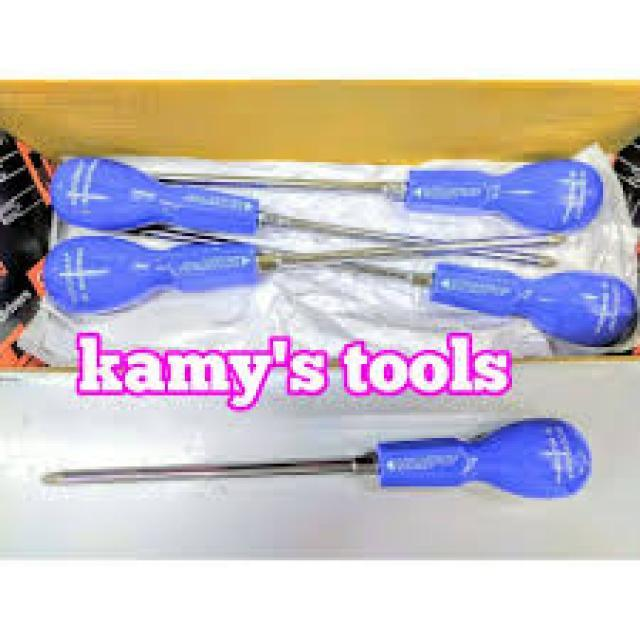screwdriver: (55, 182, 633, 353), (47, 154, 556, 270), (25, 416, 598, 504), (36, 218, 570, 312), (150, 154, 604, 230)
